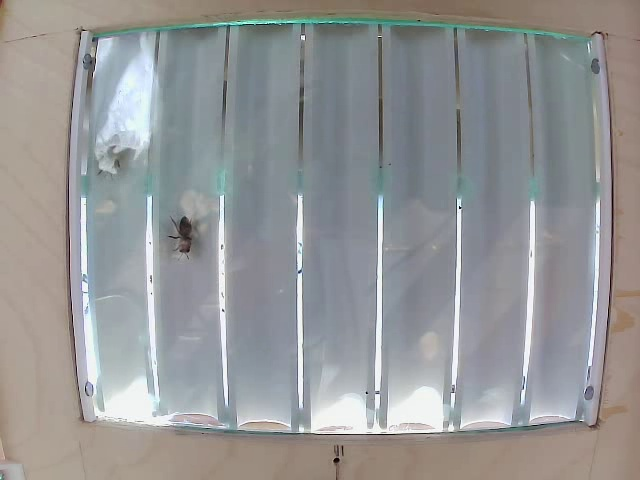bee: (167, 212, 198, 257)
